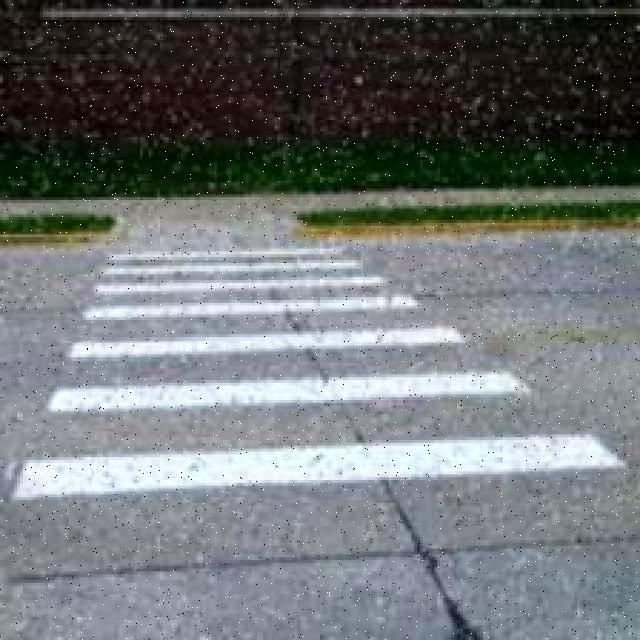crosswalk: (0, 215, 602, 639)
